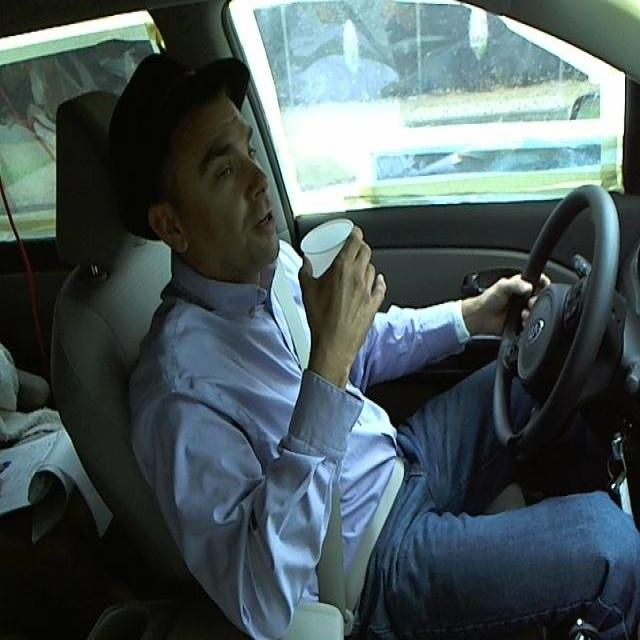drinking: (299, 218, 367, 322)
